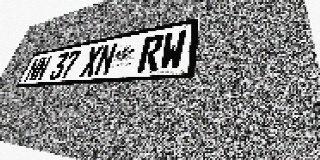3: (48, 52, 70, 80)
7: (59, 50, 82, 79)
N: (93, 43, 118, 76), (32, 55, 53, 81), (23, 57, 44, 82)
R: (137, 34, 165, 73)
W: (158, 29, 187, 71)
X: (79, 45, 103, 77)
